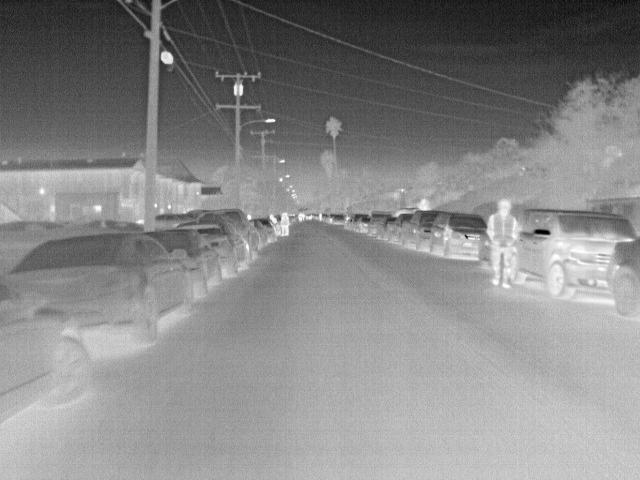car: (2, 230, 210, 341), (508, 210, 632, 303), (4, 312, 91, 431), (139, 230, 224, 297), (174, 222, 239, 280), (198, 208, 260, 254), (430, 210, 485, 261), (605, 237, 639, 318), (219, 222, 251, 268), (401, 210, 438, 249), (250, 219, 278, 245), (158, 212, 197, 230), (389, 213, 412, 242), (370, 211, 390, 236), (348, 213, 367, 230), (355, 214, 371, 232), (333, 213, 349, 227)
person: (487, 200, 520, 288), (278, 210, 290, 238)
